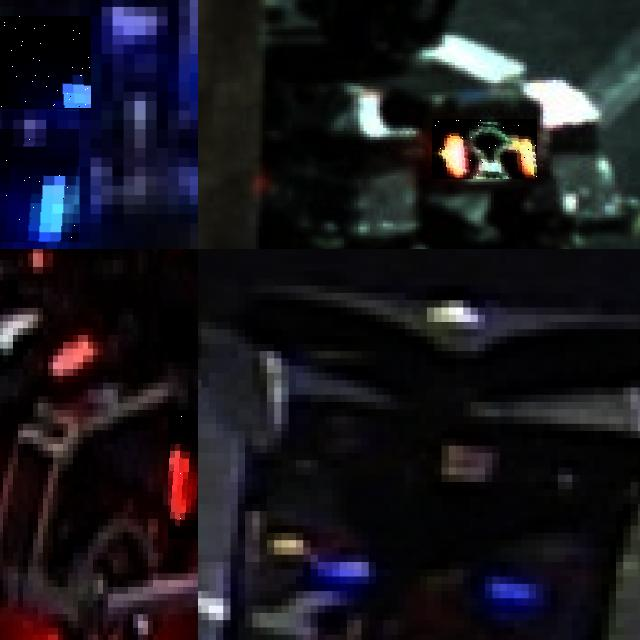B1: (0, 129, 79, 242), (0, 16, 90, 110)
R4: (168, 409, 198, 539)
Rs: (432, 119, 537, 179)
